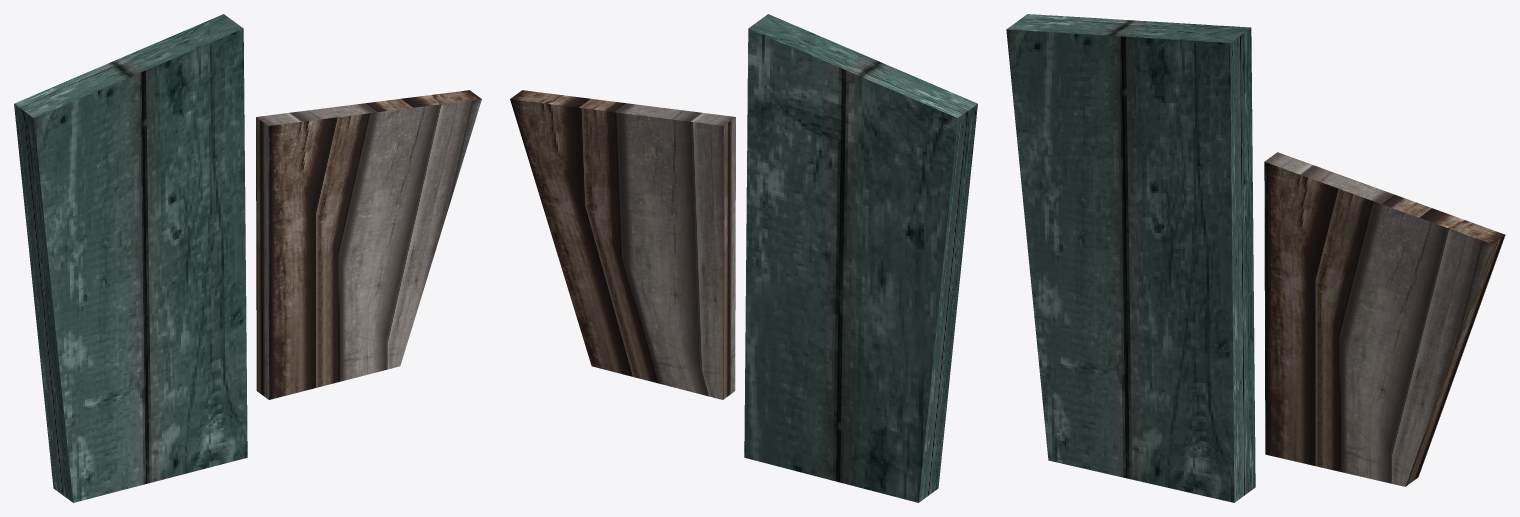
Rendered from plywood.fbx.
3 renders of one model, left to right at view 1: azimuth 30°, elevation 25°; view 2: azimuth 150°, elevation 25°; view 3: azimuth 330°, elevation 25°, orthographic. The views are drawn at different scales.
Parts seen in each view (by area): view 1: Cube.023, Cube.022; view 2: Cube.023, Cube.022; view 3: Cube.023, Cube.022.
Part boxes in pixels (x1,y1,x2,y2): Cube.023: (14, 14, 247, 502); Cube.022: (256, 90, 481, 399); Cube.023: (744, 14, 977, 502); Cube.022: (510, 90, 735, 399); Cube.023: (1006, 14, 1255, 502); Cube.022: (1264, 152, 1505, 486).
Bounding box in the file's own units: 212 × 16.11 × 194.
